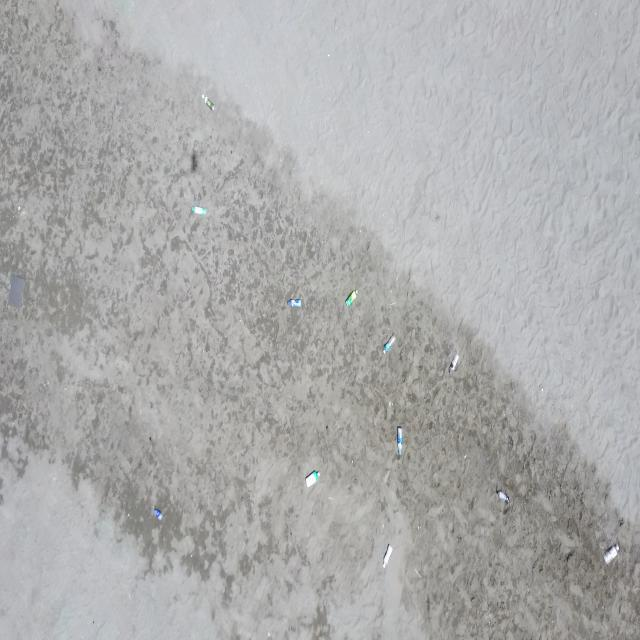plastic-bottle: (603, 544, 619, 565), (448, 353, 461, 377), (382, 333, 396, 355), (382, 544, 394, 569), (344, 288, 359, 308), (306, 468, 321, 486), (396, 427, 404, 457), (286, 296, 302, 309), (203, 95, 215, 112), (191, 204, 206, 217), (497, 489, 510, 504), (154, 509, 163, 522)
